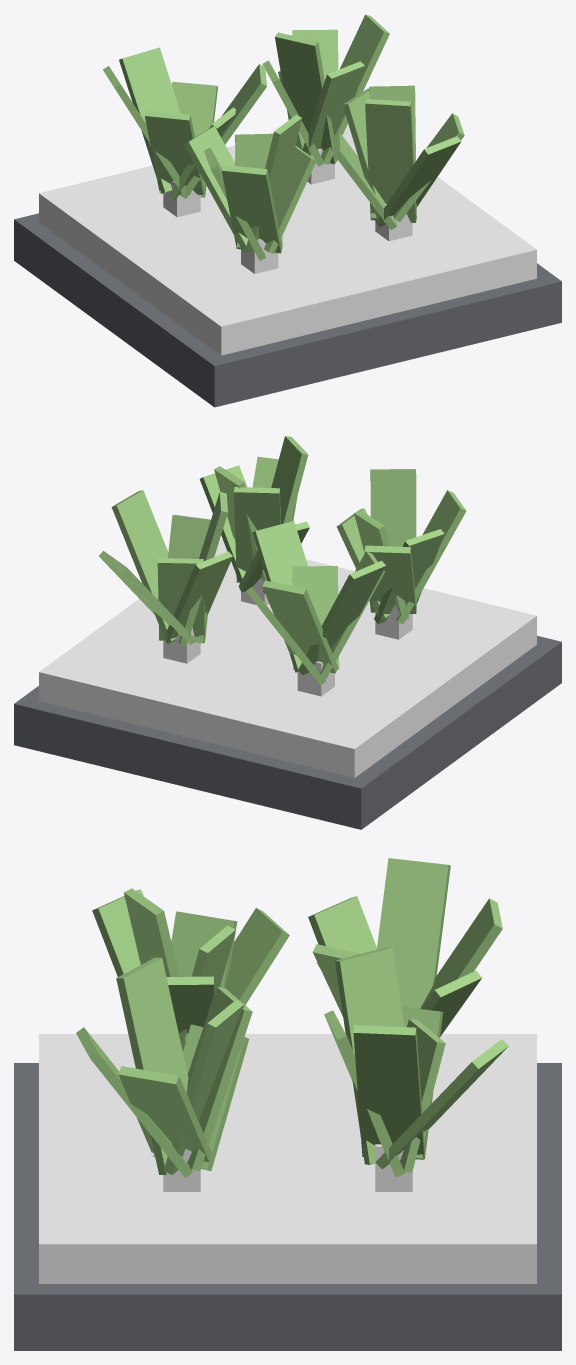
The model's file is vertical-farm-and-hydroponics-tower-vertical-farm-and--9431d595__38353.glb.
The picture shows the model from 3 angles, top to bottom: view 1: azimuth 30°, elevation 25°; view 2: azimuth 150°, elevation 25°; view 3: azimuth 270°, elevation 25°; orthographic projection. The views are drawn at different scales.
Parts seen in each view (by area): view 1: vertical-farm-and-hydroponics-tower-leafy-crop-cluster-pak-c (×3); view 2: vertical-farm-and-hydroponics-tower-leafy-crop-cluster-pak-c (×3); view 3: vertical-farm-and-hydroponics-tower-leafy-crop-cluster-pak-c (×3).
Part boxes in pixels (box(x1,y1,x2,y2)): vertical-farm-and-hydroponics-tower-leafy-crop-cluster-pak-c (×3): box(14, 14, 561, 407); vertical-farm-and-hydroponics-tower-leafy-crop-cluster-pak-c (×3): box(14, 436, 561, 829); vertical-farm-and-hydroponics-tower-leafy-crop-cluster-pak-c (×3): box(14, 858, 561, 1350).
Bounding box in the file's own units: 0.44 × 0.2714 × 0.44.
